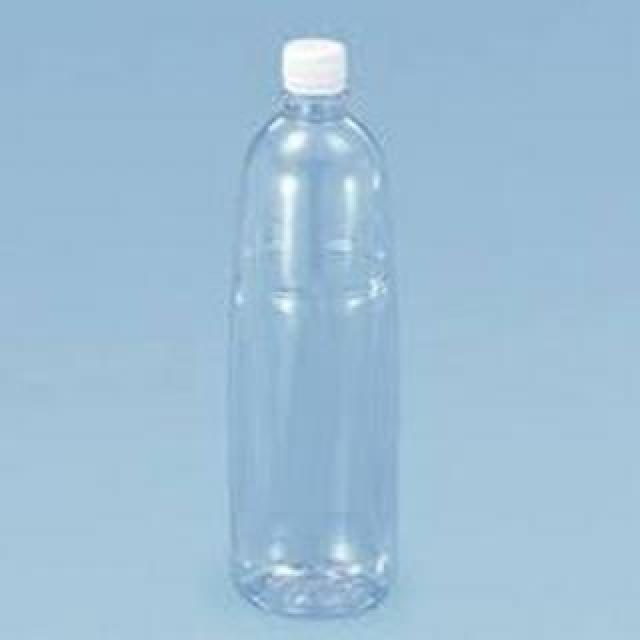Pet_Bottle: (219, 36, 405, 618)
